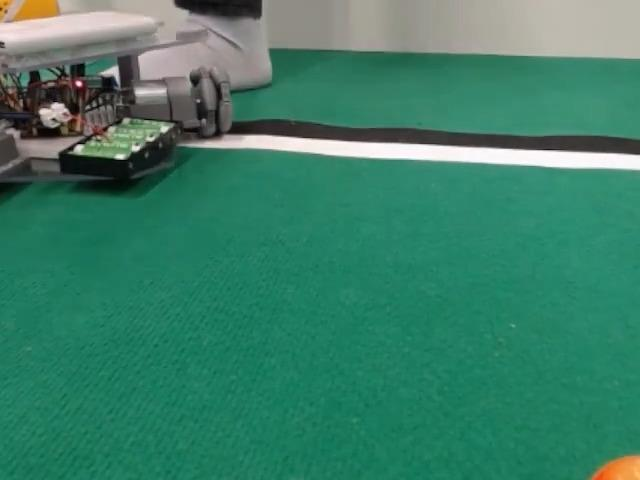Ball: (590, 455, 639, 479)
